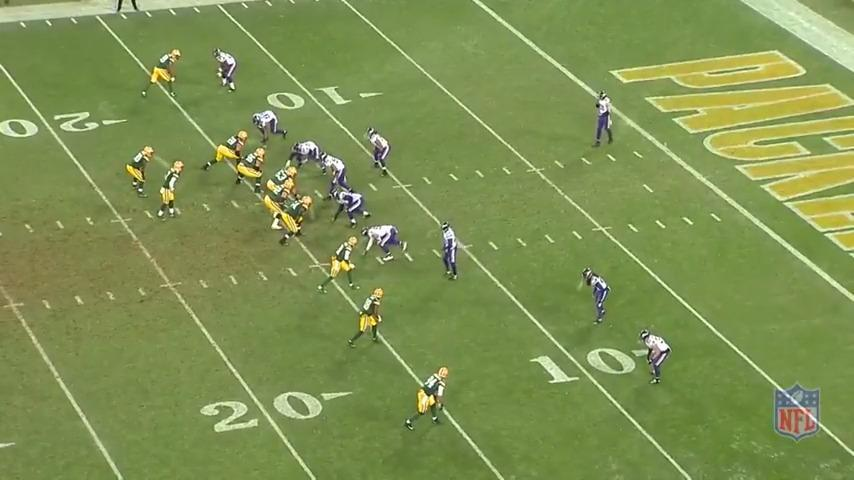defense: (360, 224, 410, 264), (640, 327, 672, 387), (591, 87, 619, 153), (580, 265, 610, 325), (438, 221, 464, 285), (315, 151, 350, 197), (250, 110, 288, 149), (334, 191, 375, 227), (367, 127, 394, 180), (213, 46, 241, 96), (288, 138, 328, 171)
oline: (276, 194, 313, 248), (207, 131, 249, 173), (233, 146, 268, 194), (265, 180, 295, 229), (267, 164, 297, 192)
qb: (159, 160, 188, 222)
skill: (404, 367, 458, 436), (346, 286, 391, 351), (317, 233, 358, 294), (140, 46, 183, 101), (128, 144, 156, 199)
